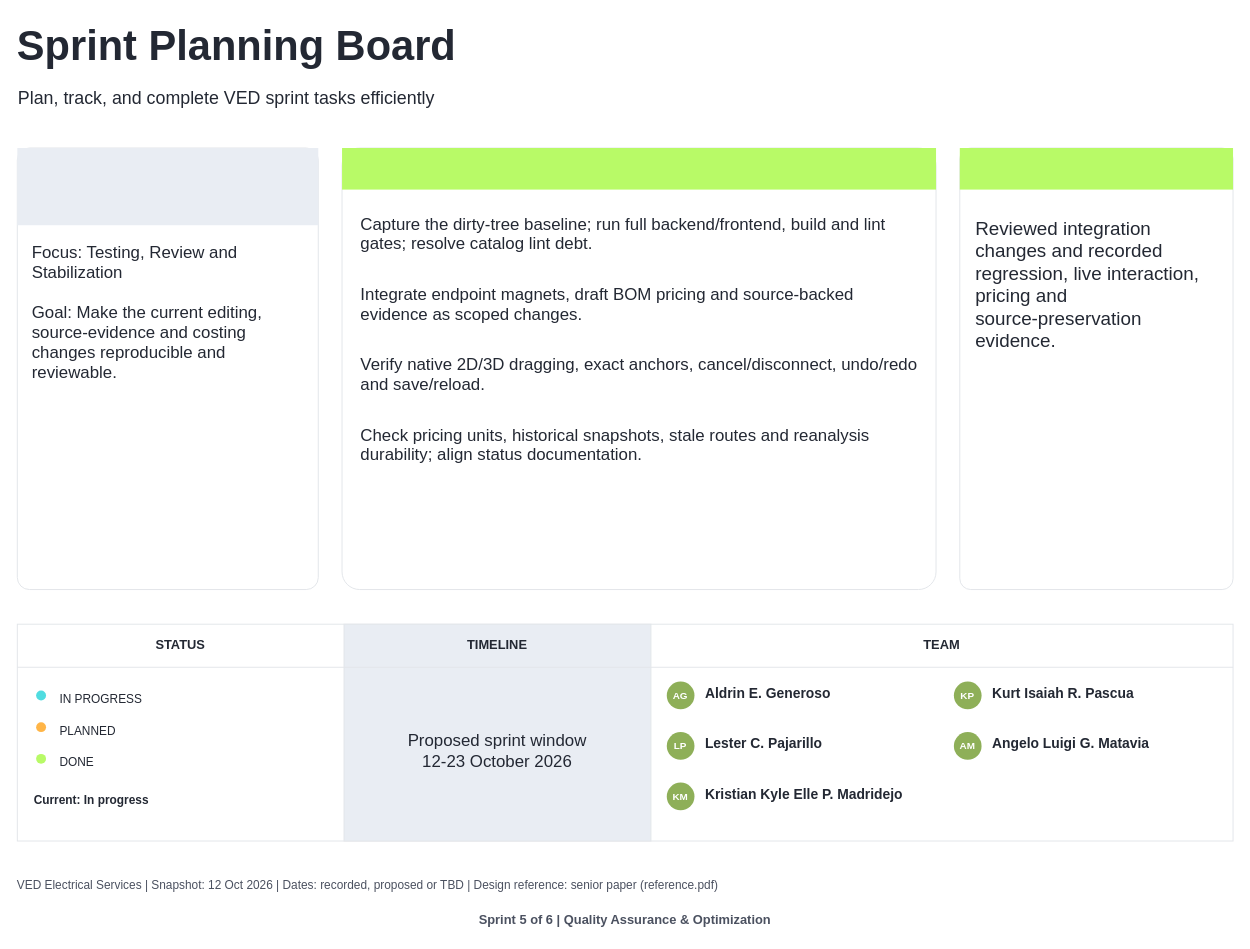
Image size: 1250x949. Some labels were removed from this diagram. Here are the shapes that lost their labels. From the top down, the centre of each, then its label:
the point at 167,186: SPRINT 5: QUALITY ASSURANCE & OPTIMIZATION
the point at 639,168: ACTIVITIES
the point at 1096,168: MILESTONE DELIVERABLE
